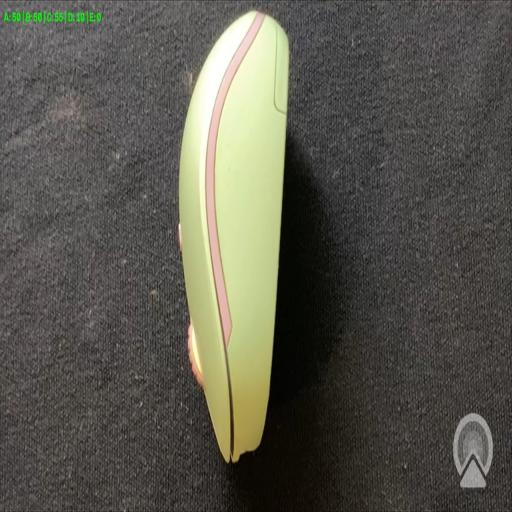mouse: (162, 9, 322, 475)
